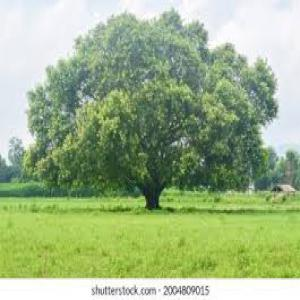Tree: (22, 3, 280, 210)
